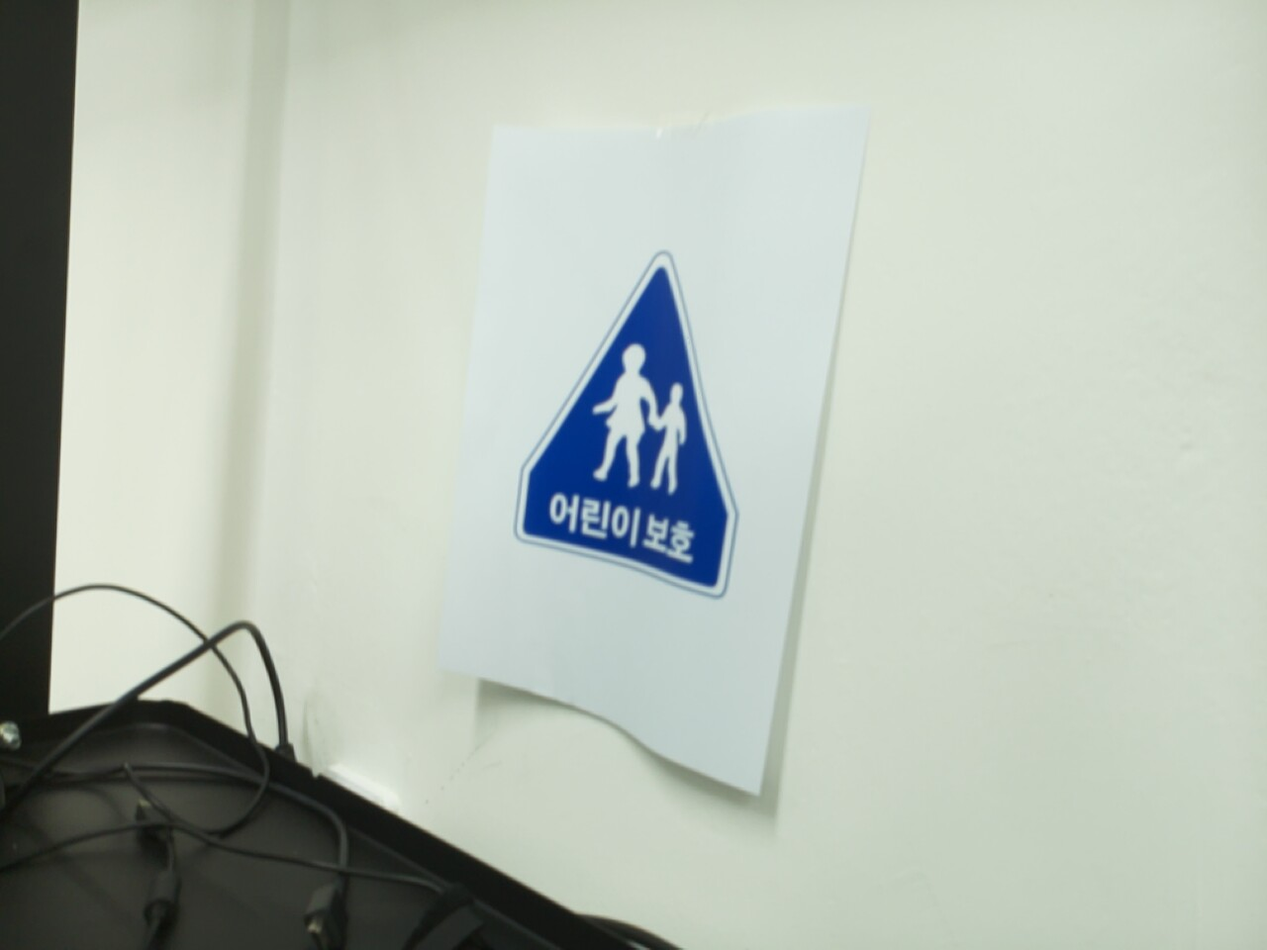school_zone: (515, 257, 735, 597)
